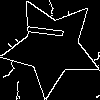I: (27, 22, 73, 41)
